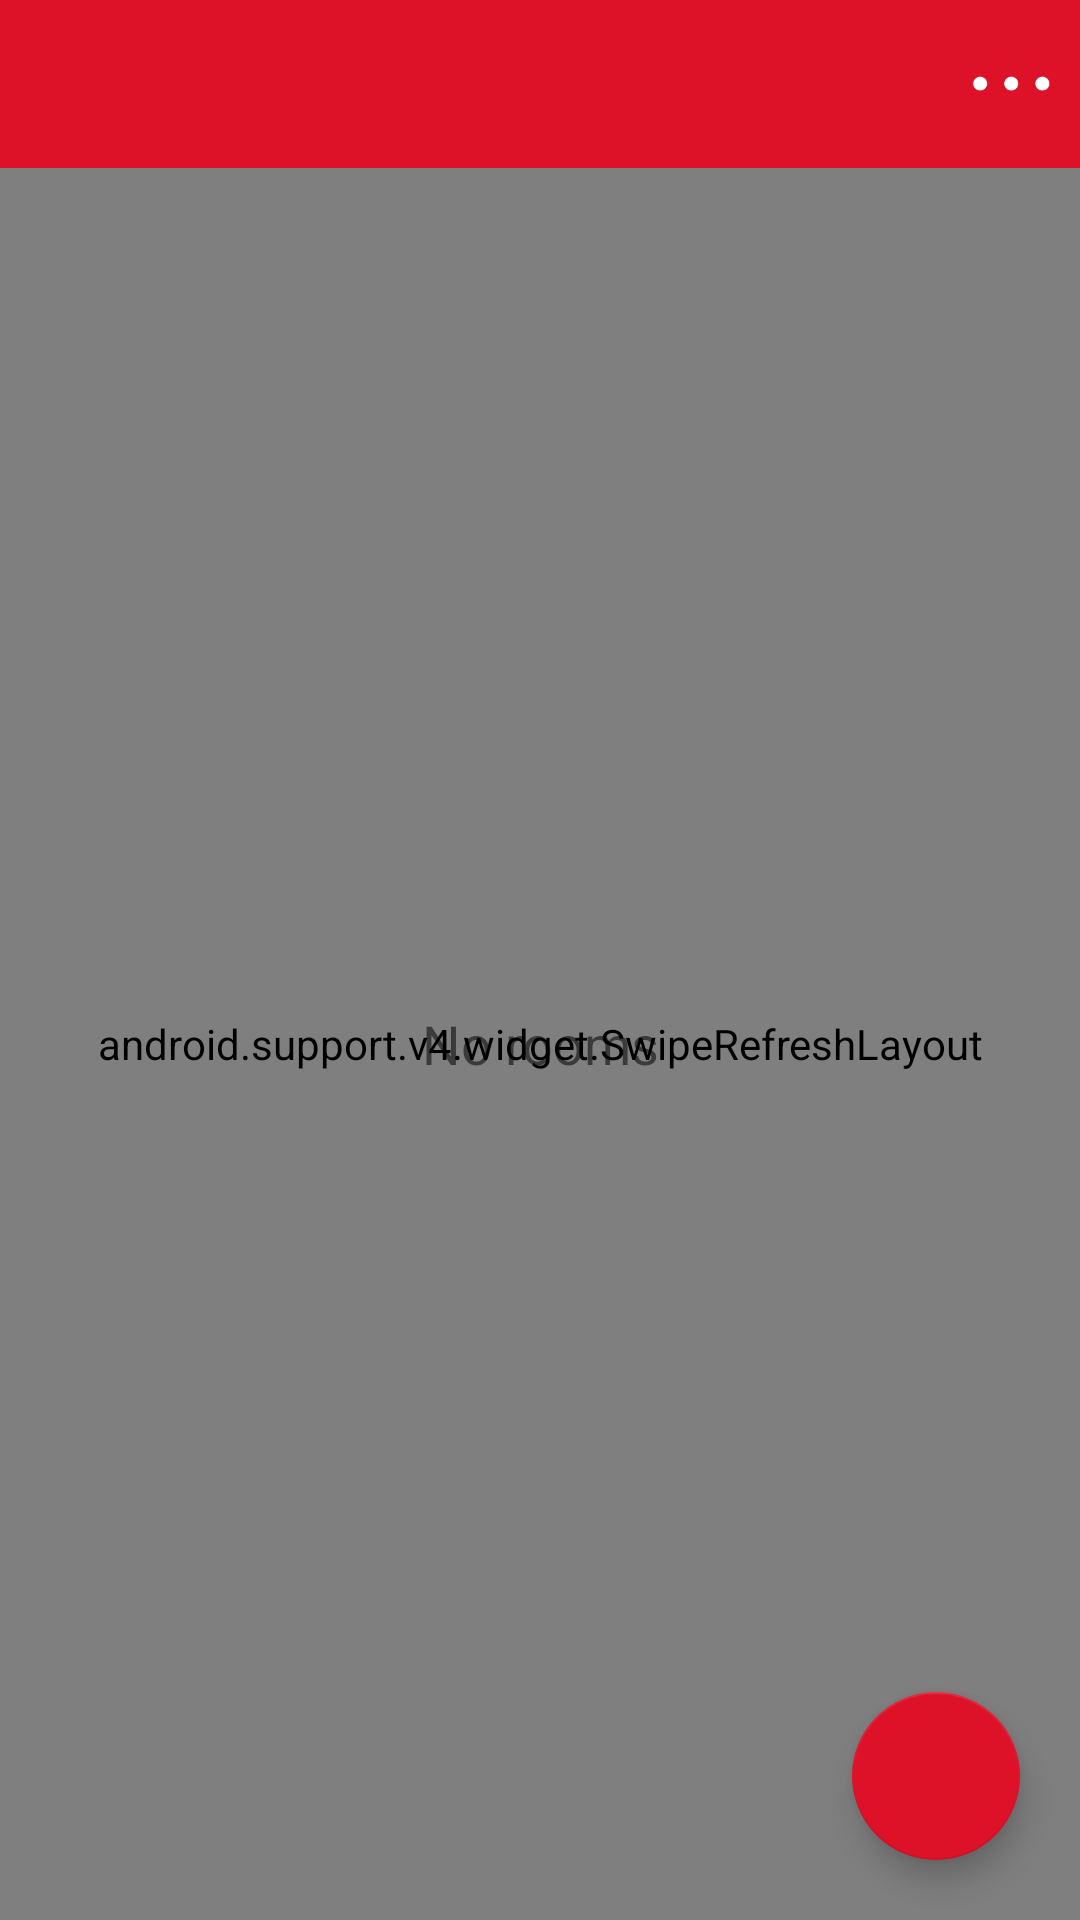

Screen size 1080*1920. Icon name, then its box in pixels as bbox(x1, y1, x2, y2):
ab overflow: bbox(973, 76, 1050, 91)
